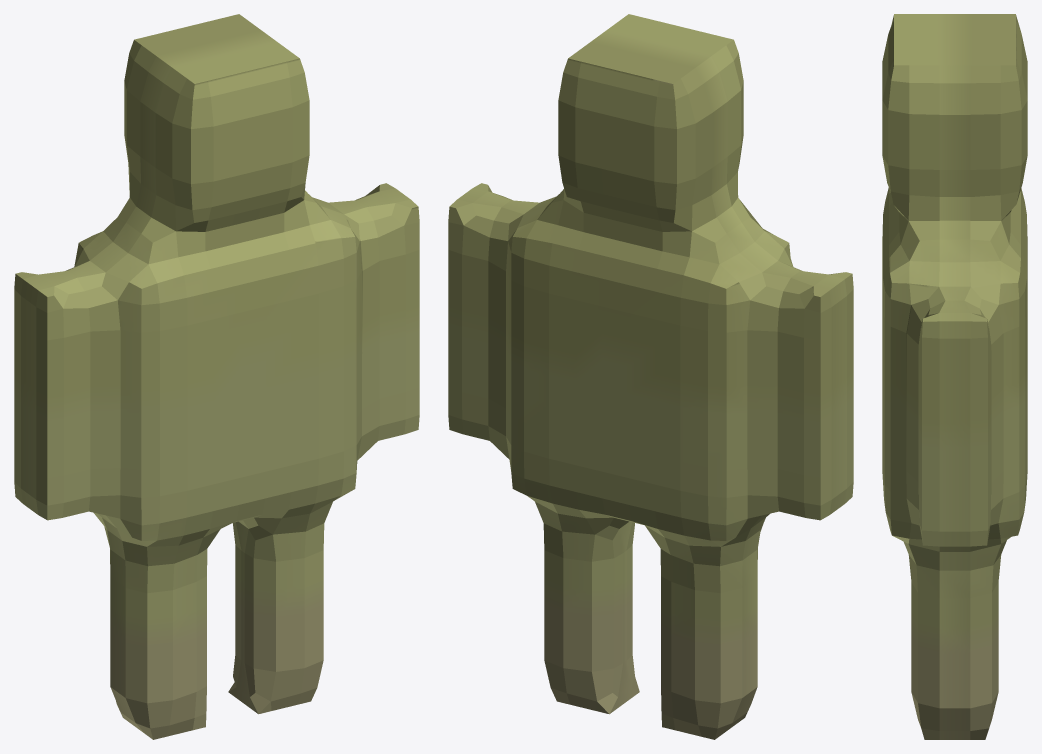
File: grandWizard.glb
3 renders of one model, left to right at view 1: azimuth 30°, elevation 25°; view 2: azimuth 150°, elevation 25°; view 3: azimuth 270°, elevation 25°, orthographic.
Visible parts, largest first — view 1: geometry_0; view 2: geometry_0; view 3: geometry_0.
Boxes of the visible parts, left/top/right/bottom form: geometry_0: left=14, top=14, right=419, bottom=739; geometry_0: left=448, top=14, right=853, bottom=739; geometry_0: left=882, top=14, right=1027, bottom=739.
Size of the model in its own units: 0.597 by 1 by 0.199.
Materials: 1 (1 with a texture image).
